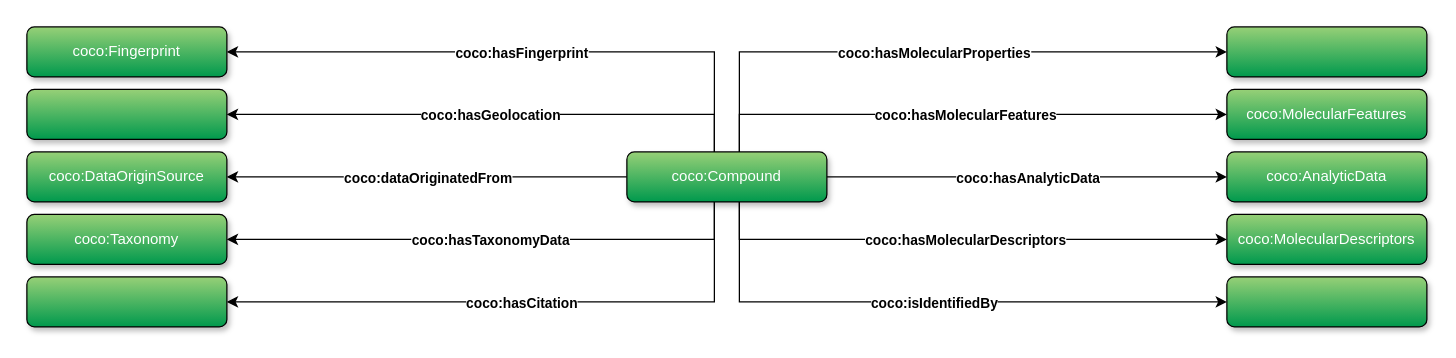
This 1456x358 diagram has some shape labels left out. The shapes that lost their labels are listed below. From the top down, each one's centre as x and y in pixels, then its label:
At [1327,53]: "coco:MolecularProperties".
At [127,115]: "coco:Geolocation".
At [127,303]: "coco:Citation".
At [1327,303]: "coco:UniqueIdentifiers".
